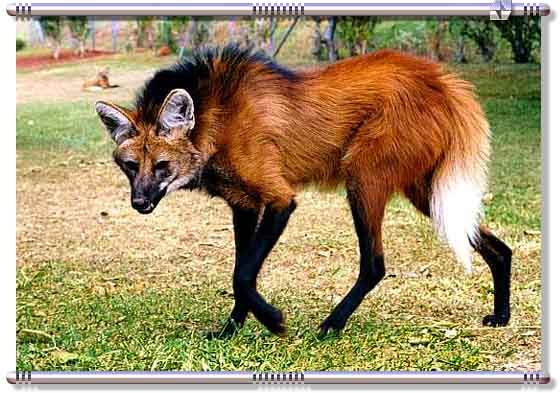LoboGuara: (89, 42, 522, 342)
